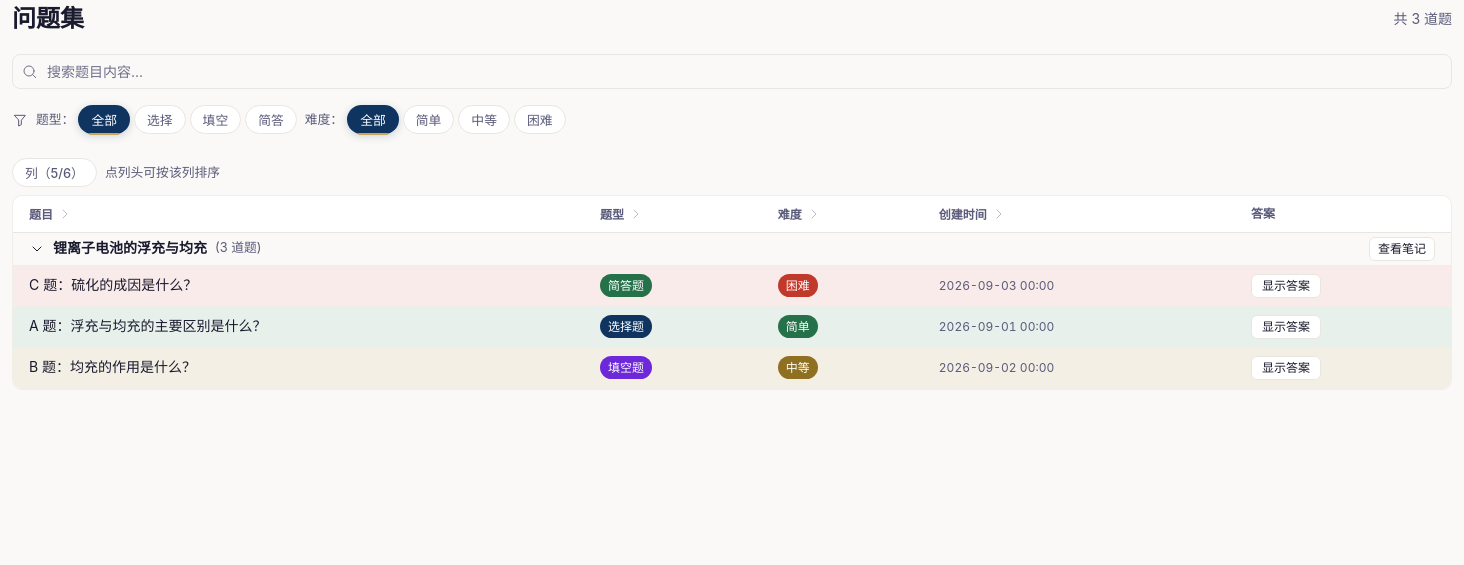
Test: 问题集：答案仍然默认折叠（分组与遮挡语义不变） › 点「显示答案」才渲染答案 / 选项 / 解析，并带上 aria-expanded
Check: the text "C 题：硫化的成因是什么？" is shown, box top-left (29, 276), bottom-right (197, 293)
Check: the text "答案：" is not shown
# 第二行才是带选项的选择题（A 题）
Click the button "显示答案" in the row of "A 题：浮充与均充的主要区别是什么？" at (1286, 327), box top-left (1251, 315), bottom-right (1321, 339)
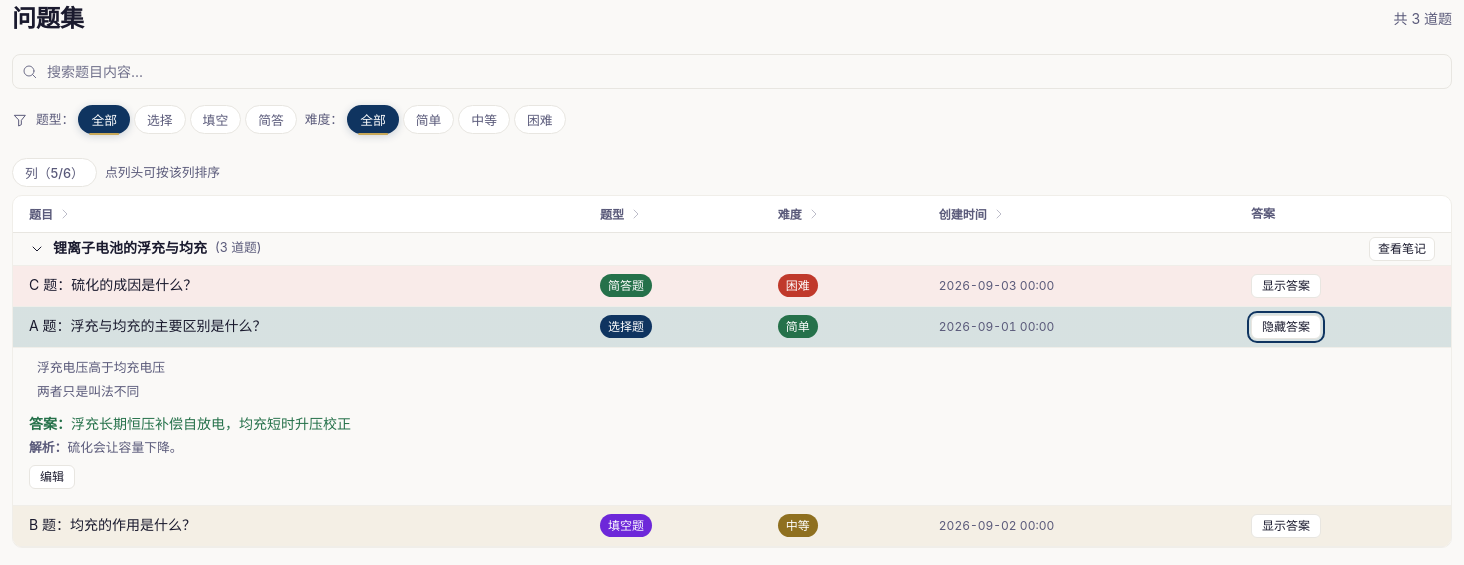
Check: the button named "显示答案" is expanded, box top-left (1251, 315), bottom-right (1321, 339)
Check: the text "答案：" is shown, box top-left (29, 414), bottom-right (71, 432)
Check: the text "浮充长期恒压补偿自放电，均充短时升压校正" is shown, box top-left (71, 414), bottom-right (351, 432)
